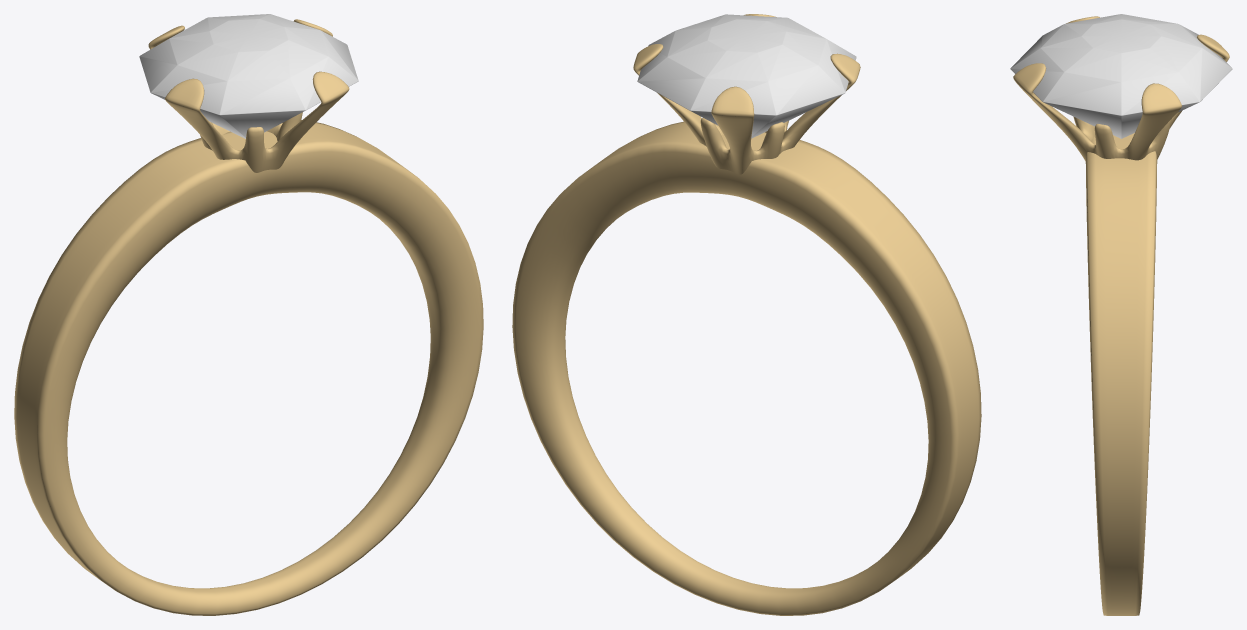
Rendered from Diamant.fbx.
3 renders of one model, left to right at view 1: azimuth 30°, elevation 25°; view 2: azimuth 150°, elevation 25°; view 3: azimuth 270°, elevation 25°, orthographic. The views are drawn at different scales.
Visible parts, largest first — view 1: Circle.001, Circle, Circle.002; view 2: Circle.001, Circle, Circle.002; view 3: Circle.001, Circle, Circle.002.
Part boxes in pixels (x1,y1,x2,y2): Circle.001: [14, 120, 483, 615]; Circle: [139, 14, 358, 138]; Circle.002: [148, 19, 349, 172]; Circle.001: [512, 121, 981, 615]; Circle: [637, 14, 856, 138]; Circle.002: [633, 14, 860, 174]; Circle.001: [1085, 133, 1157, 615]; Circle: [1010, 14, 1232, 138]; Circle.002: [1013, 16, 1229, 160].
Size of the model in its own units: 232 by 284 by 103.
